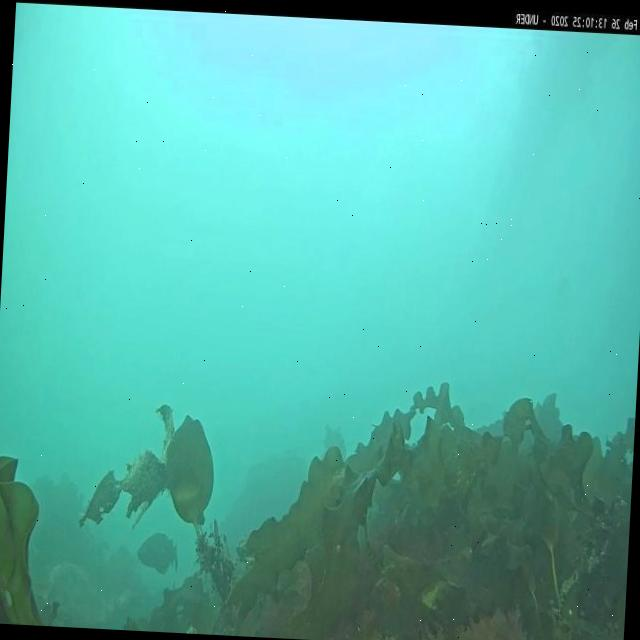fish: (136, 533, 182, 575)
